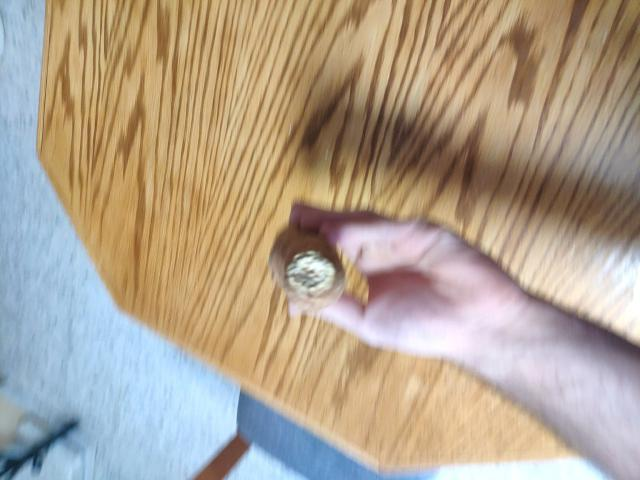sweet_potato: (256, 243, 340, 312)
